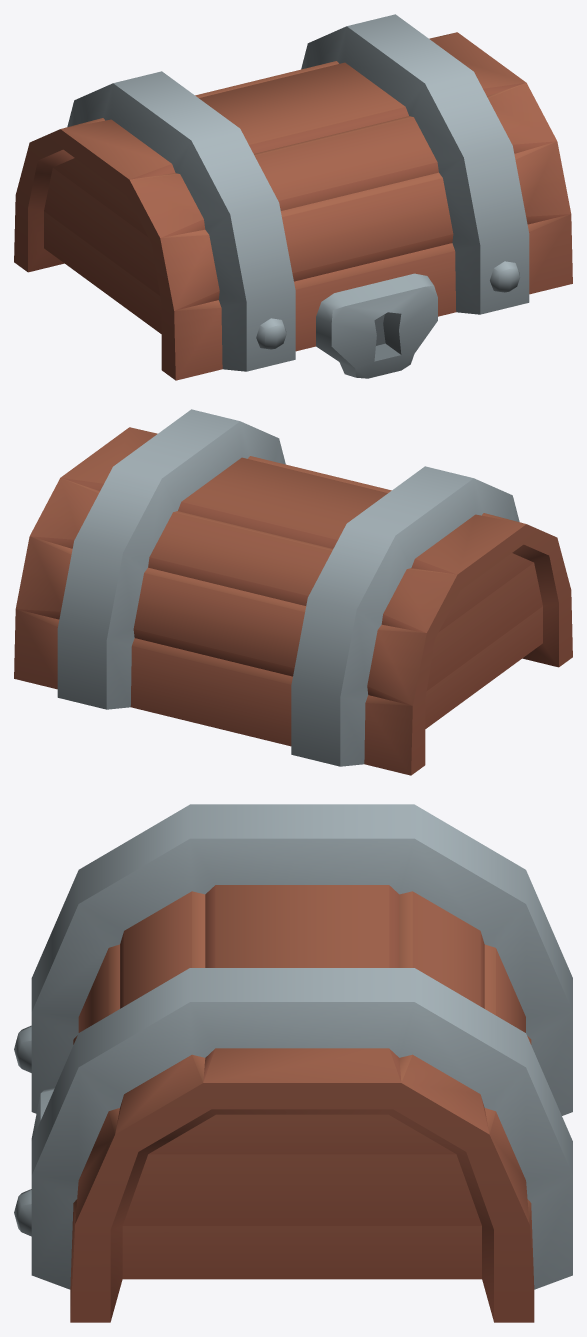
Rendered from chest_lid.gltf.
3 views of the same model, one above another, from view 1: azimuth 30°, elevation 25°; view 2: azimuth 150°, elevation 25°; view 3: azimuth 270°, elevation 25° (orthographic). The views are drawn at different scales.
Parts seen in each view (by area): view 1: chest_lid; view 2: chest_lid; view 3: chest_lid.
Part boxes in pixels (x1,y1,x2,y2): chest_lid: (14, 14, 572, 380); chest_lid: (14, 409, 572, 775); chest_lid: (14, 804, 572, 1322).
Bounding box in the file's own units: 1.7 × 0.965 × 1.45.
1 material, 1 textured.
